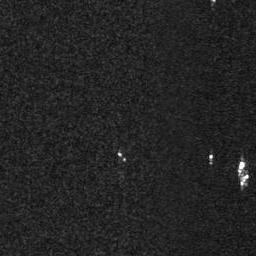ship: (236, 160, 246, 176), (241, 172, 249, 187)
